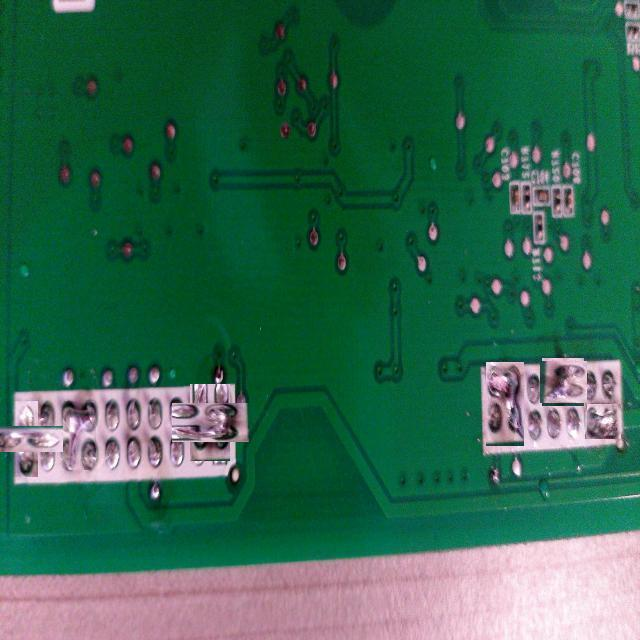Short_circuit: (181, 393, 240, 452), (486, 362, 524, 447), (0, 413, 50, 464), (62, 401, 96, 470), (540, 360, 586, 404), (586, 403, 622, 439)
